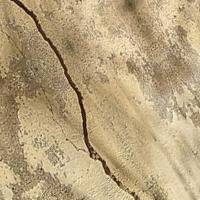crack: (15, 0, 170, 199)
